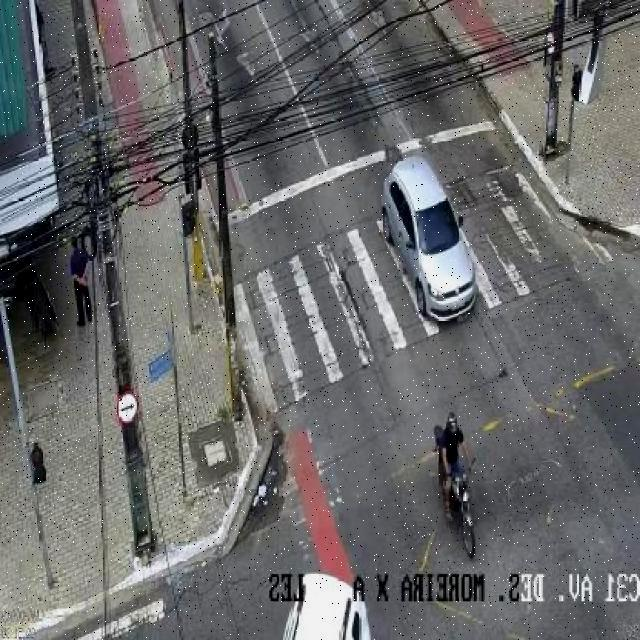Car: (378, 154, 488, 338), (280, 565, 377, 640)
Cycle: (426, 410, 482, 560)
